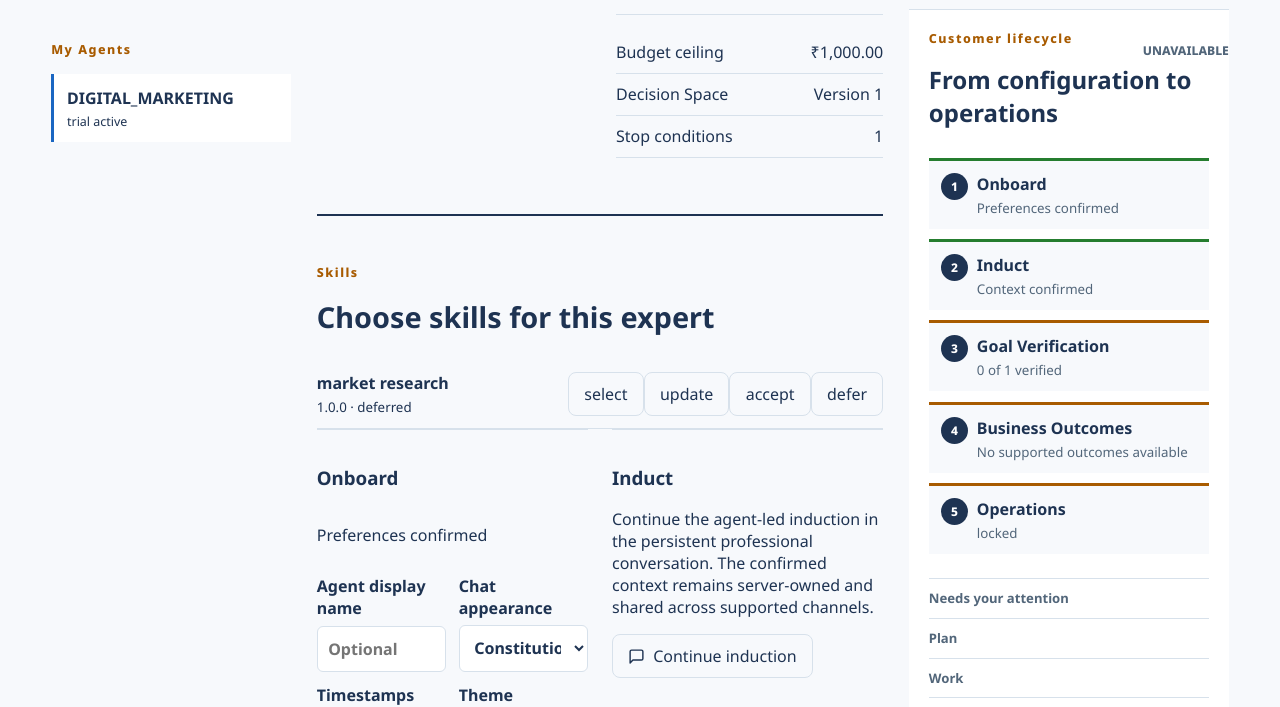
RelationshipWorkspace › submits an exact-version skill decision for only the current relationship
This screenshot has width=1280, height=707.
(page scrolled)
Click the button "accept": [770, 394] box [730,372,811,416]
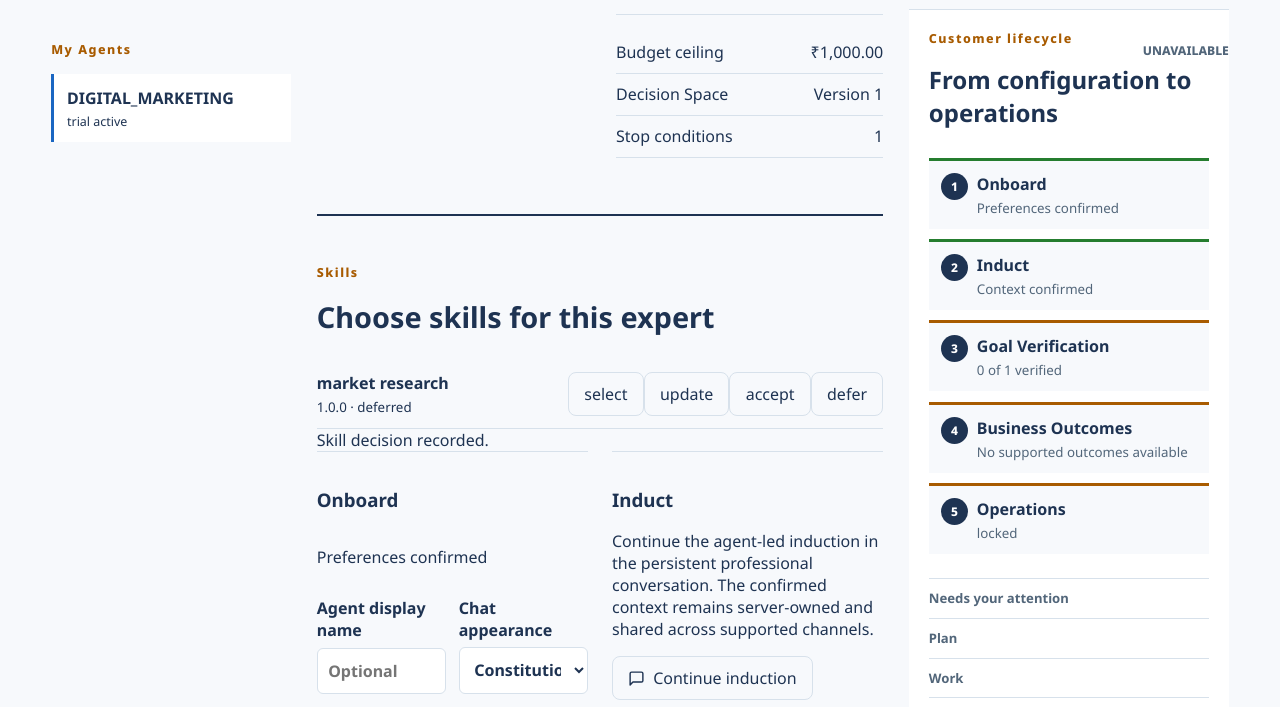
Expected: the text "Skill decision recorded." is shown, [317,429,489,451]
